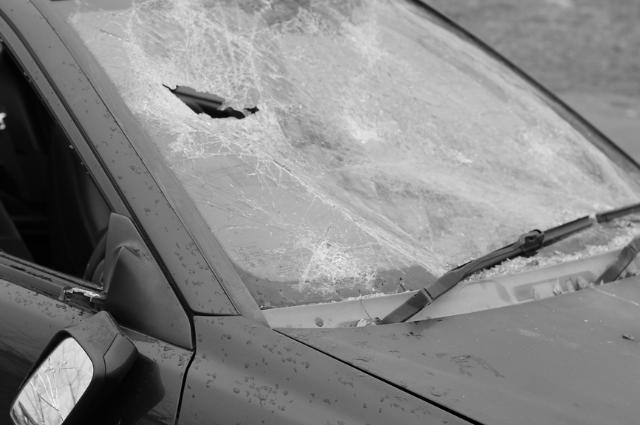Windshield: (51, 0, 640, 327)
